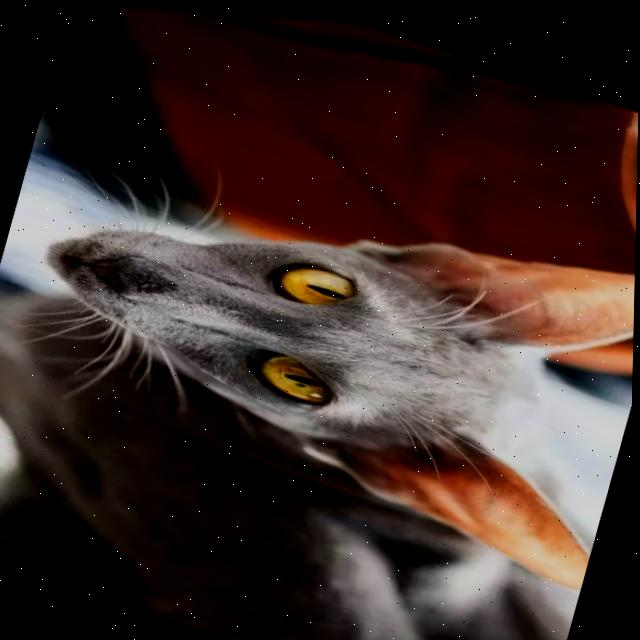Oriental: (0, 77, 639, 640)
